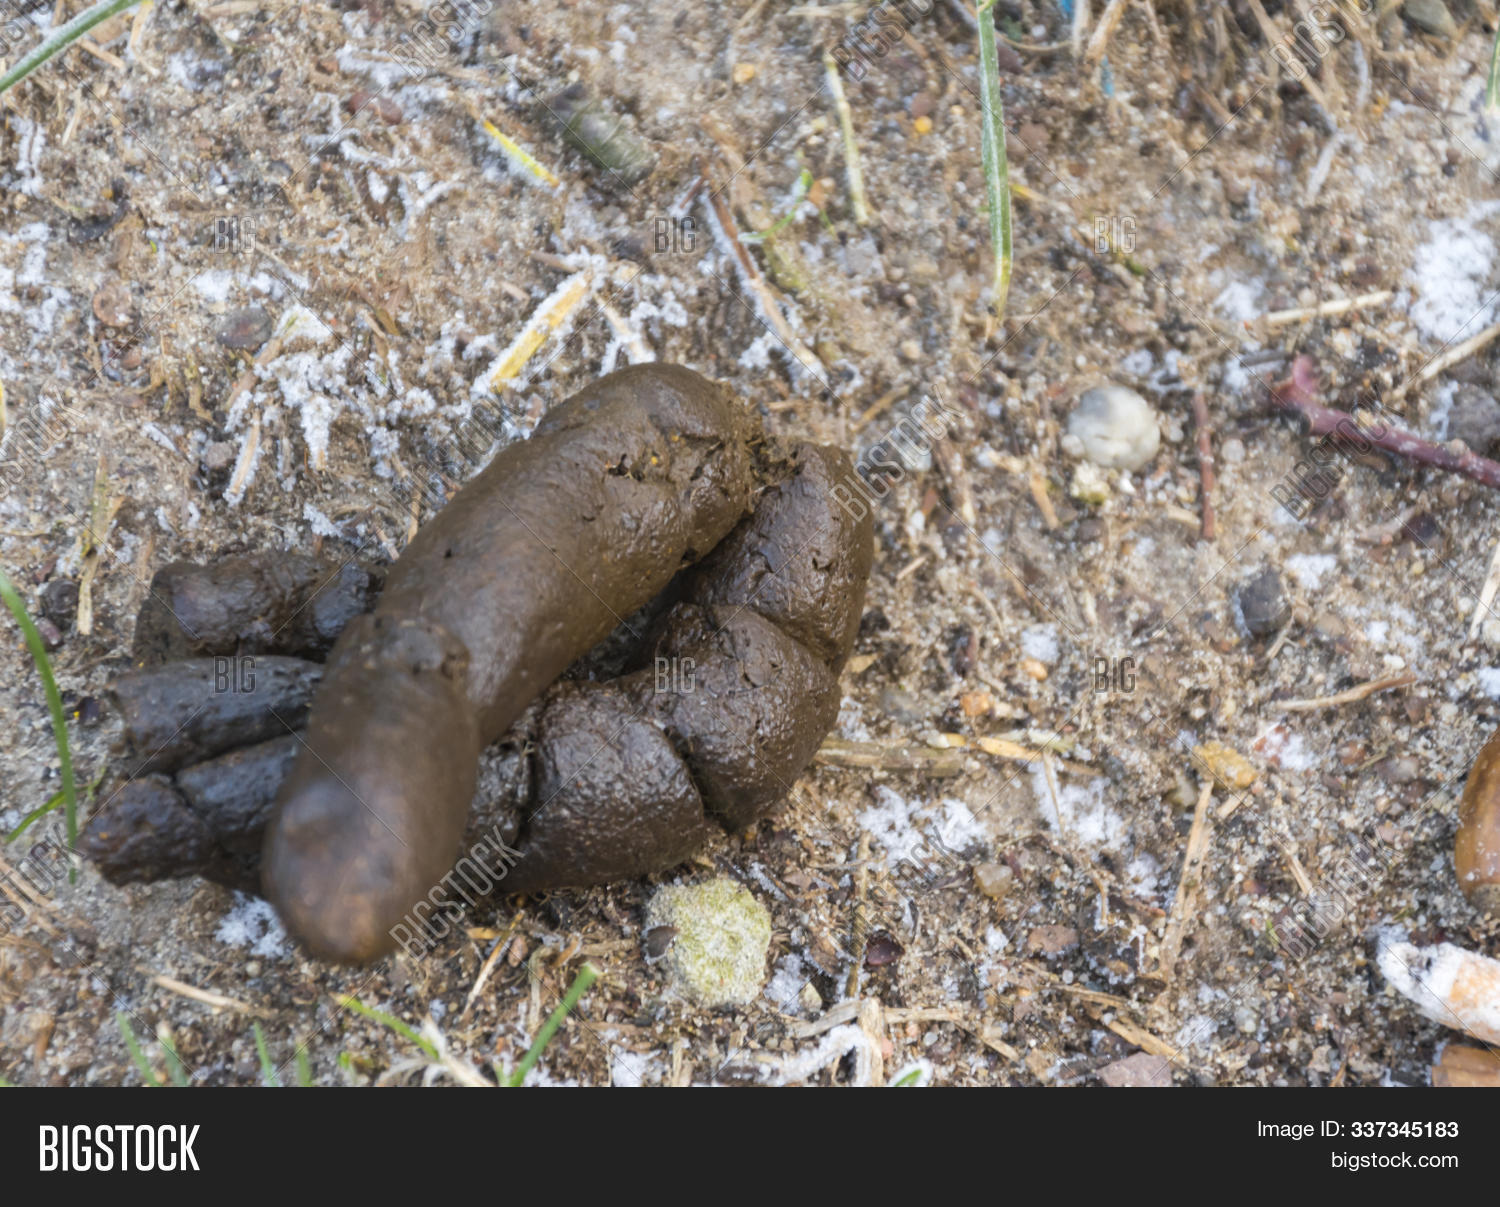Dog: (140, 392, 874, 936)
